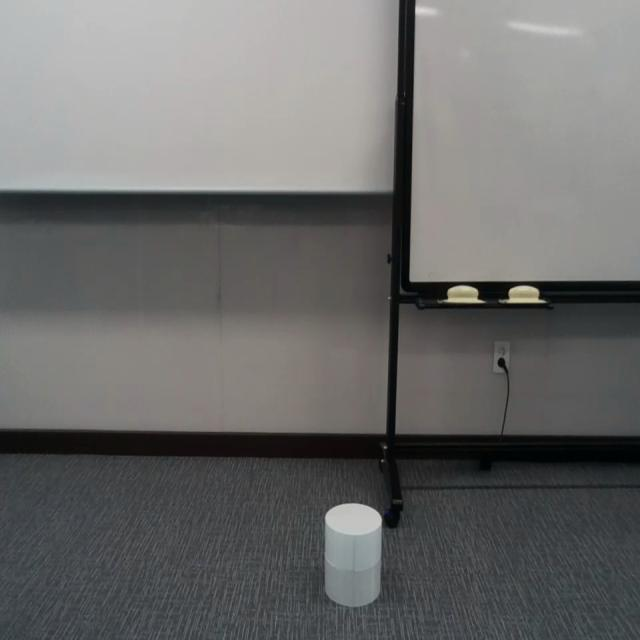cylinder: (325, 501, 382, 607)
